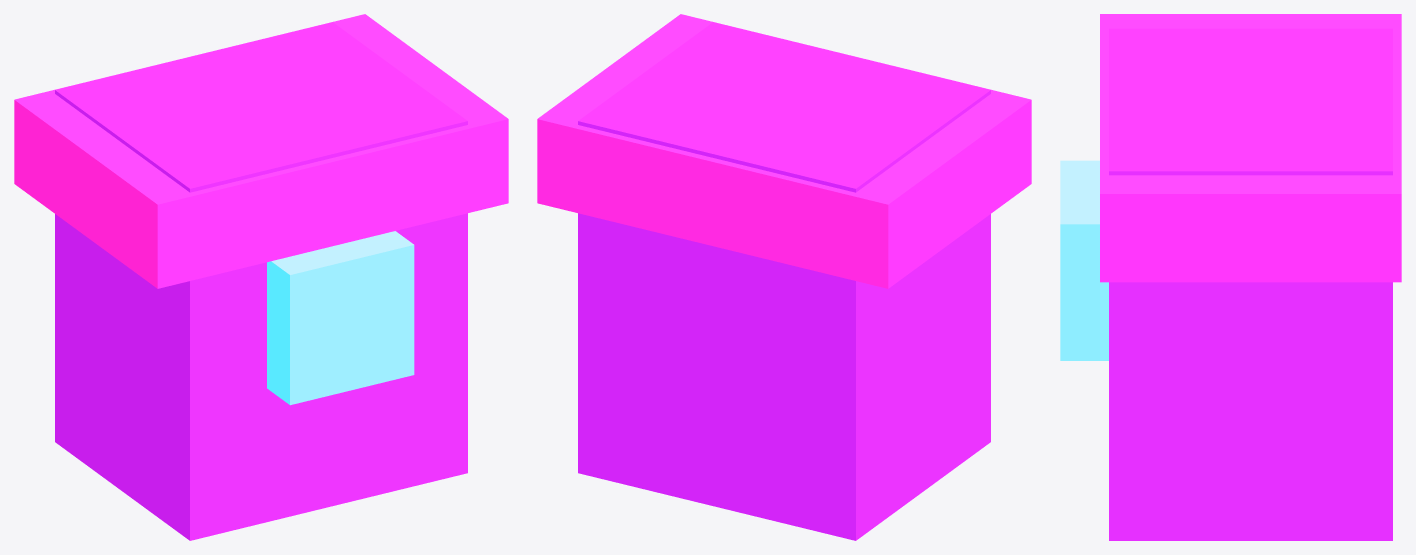
The model's file is enemy_colossus.glb.
3 views of the same model, side by side, from view 1: azimuth 30°, elevation 25°; view 2: azimuth 150°, elevation 25°; view 3: azimuth 270°, elevation 25° (orthographic). The views are drawn at different scales.
Parts seen in each view (by area): view 1: Torso, ShoulderPad, Core; view 2: Torso, ShoulderPad; view 3: Torso, ShoulderPad, Core.
Part boxes in pixels (<box>): Torso: <box>55,22,467,540</box>; ShoulderPad: <box>14,14,508,288</box>; Core: <box>267,231,414,405</box>; Torso: <box>578,22,990,540</box>; ShoulderPad: <box>537,14,1031,288</box>; Torso: <box>1109,28,1392,540</box>; ShoulderPad: <box>1100,14,1401,282</box>; Core: <box>1060,160,1108,360</box>.
Bounding box in the file's own units: 2.4 × 2.3 × 1.93.
